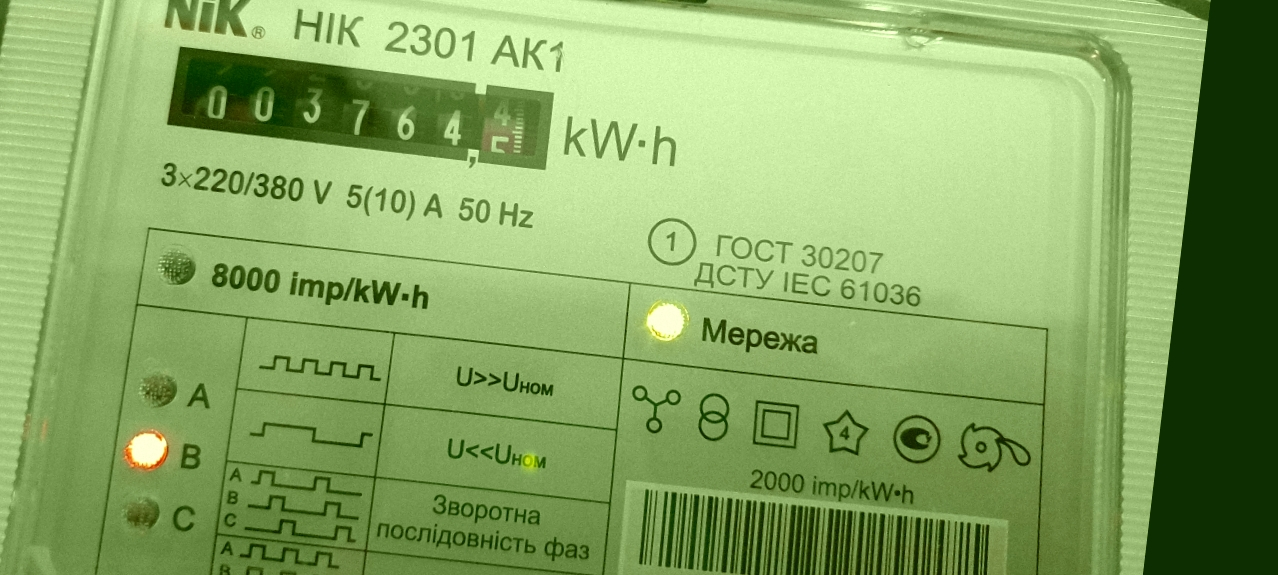0: (250, 82, 277, 124), (202, 80, 230, 120)
3: (298, 84, 325, 126)
4: (441, 106, 465, 147), (490, 94, 515, 128)
5: (486, 132, 511, 156)
6: (394, 101, 418, 142)
7: (345, 94, 373, 138)
screen: (150, 28, 571, 185)
